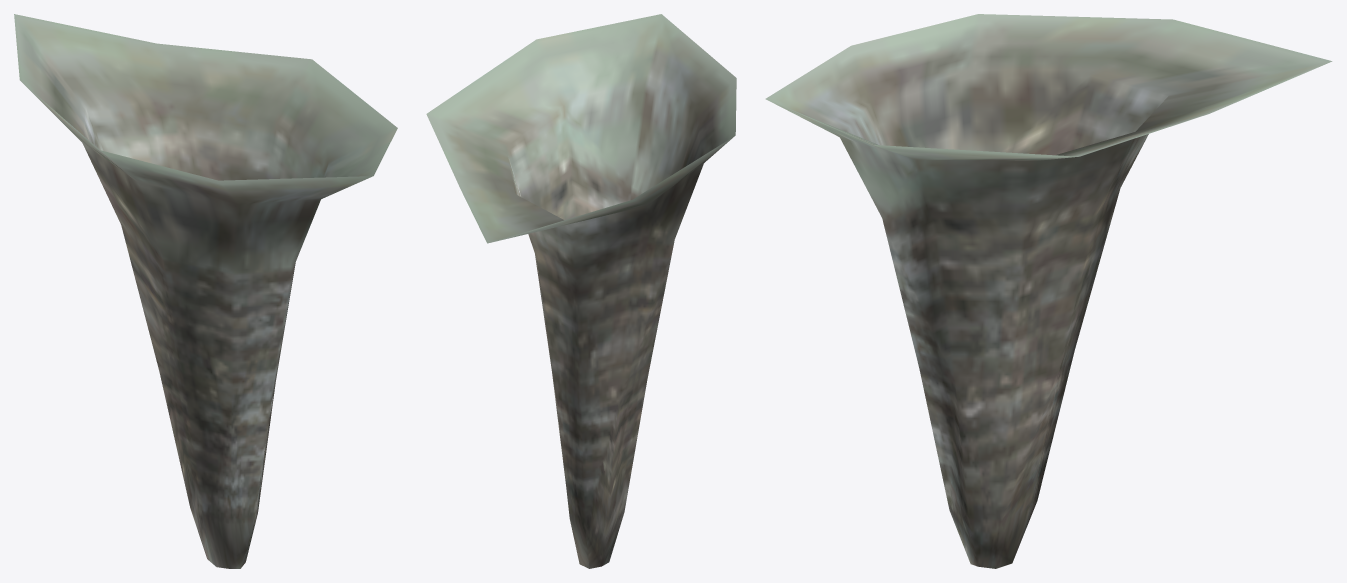
Rendered from TROLLHOLE02_PS-SECRETSTALAG46.fbx.
3 views of the same model, side by side, from view 1: azimuth 30°, elevation 25°; view 2: azimuth 150°, elevation 25°; view 3: azimuth 270°, elevation 25° (orthographic). The views are drawn at different scales.
Visible parts, largest first — view 1: TROLLHOLE02_PS-SECRETSTALAG46; view 2: TROLLHOLE02_PS-SECRETSTALAG46; view 3: TROLLHOLE02_PS-SECRETSTALAG46.
Boxes of the visible parts, left/top/right/bottom form: TROLLHOLE02_PS-SECRETSTALAG46: left=14, top=14, right=397, bottom=568; TROLLHOLE02_PS-SECRETSTALAG46: left=426, top=14, right=736, bottom=568; TROLLHOLE02_PS-SECRETSTALAG46: left=765, top=14, right=1332, bottom=568.
Bounding box in the file's own units: 16918 × 28581 × 30069.
Materials: 1 (1 with a texture image).
